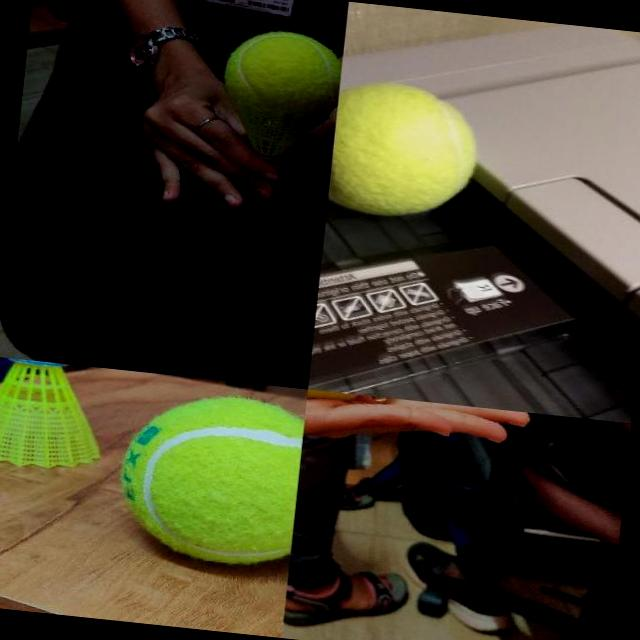Tennis Ball: (113, 386, 305, 569), (326, 75, 486, 226), (224, 25, 345, 109)
